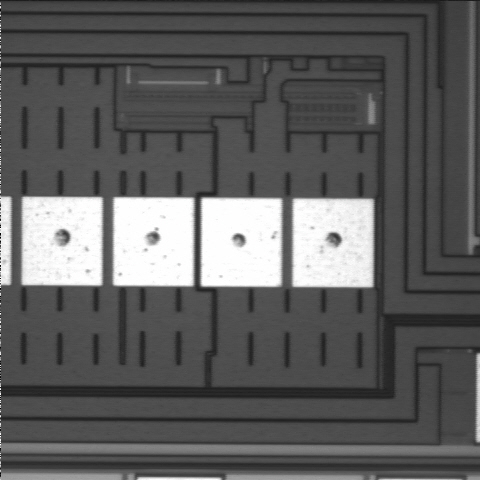pad: (22, 197, 103, 286), (113, 197, 194, 286), (201, 198, 282, 287), (292, 198, 373, 287)
